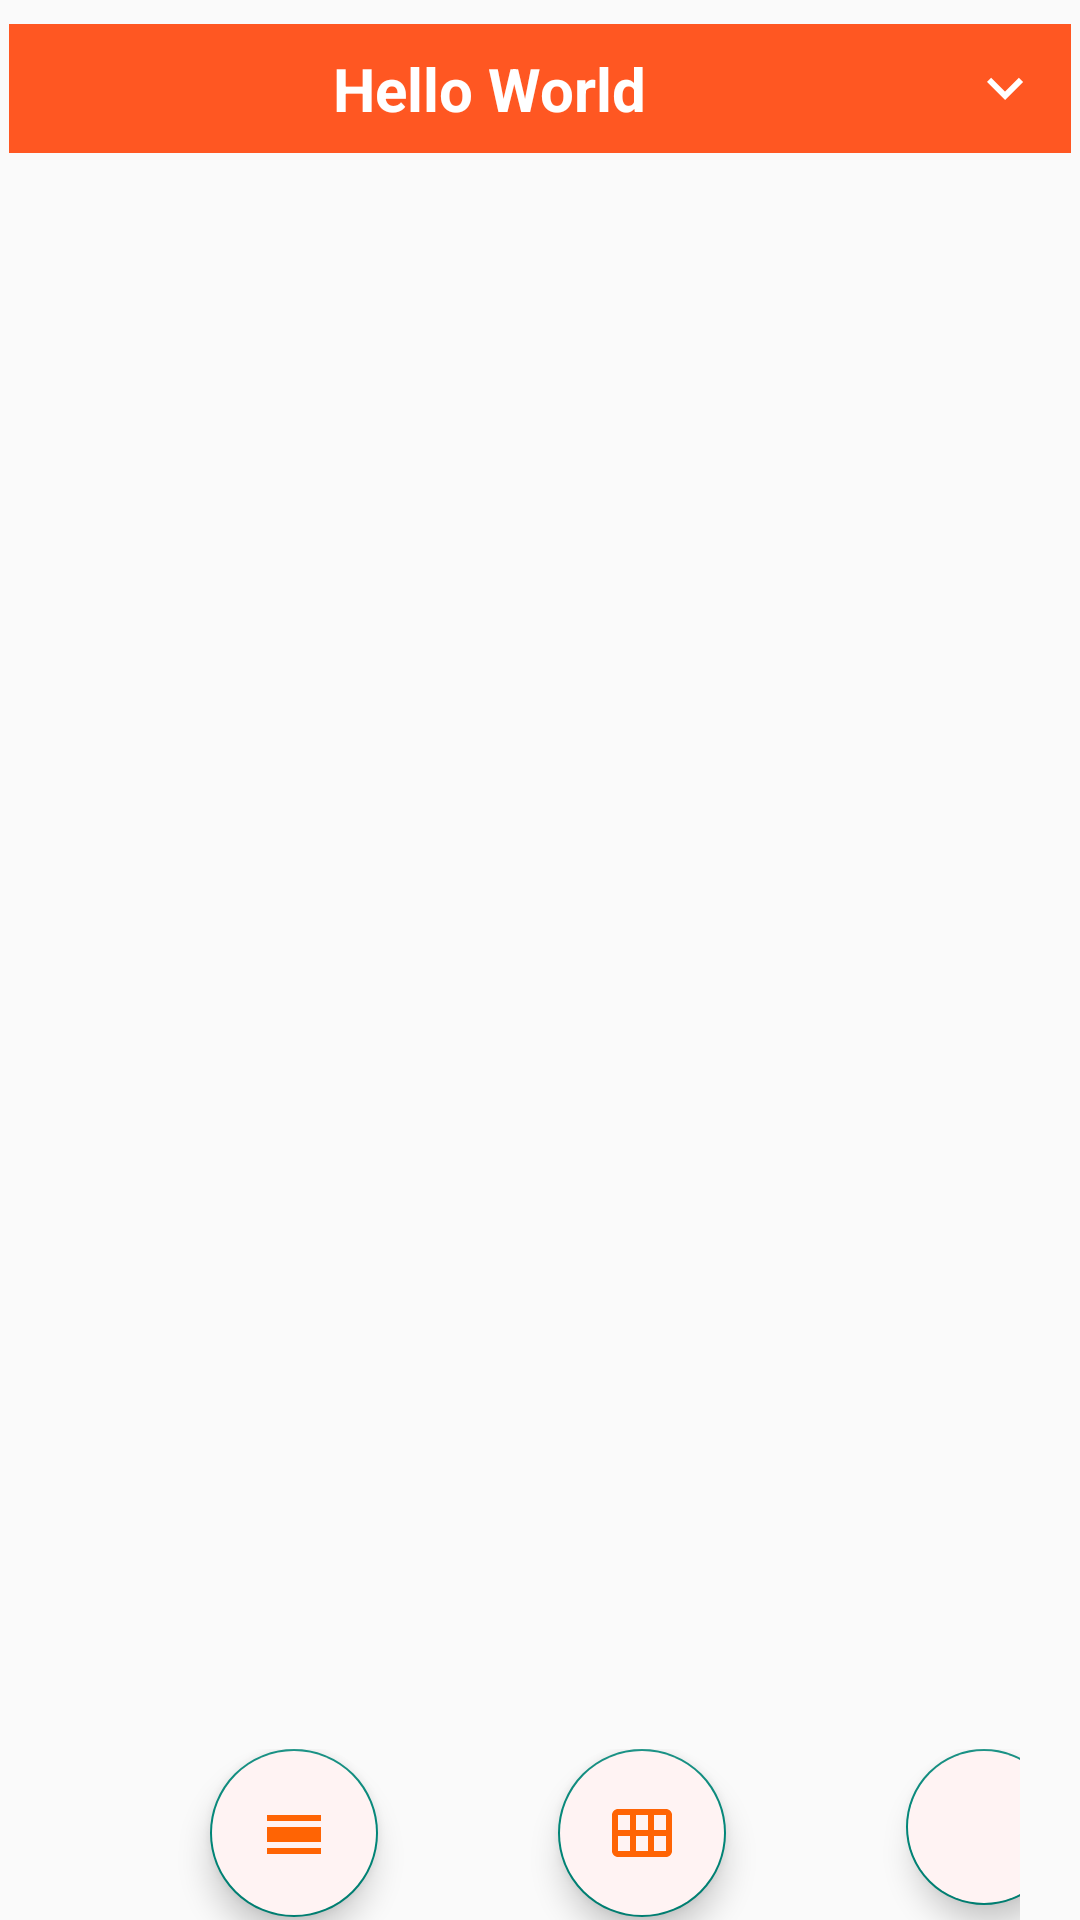

Where to tap for icons on this 1080 × 1920 app screen, as [x,y]:
monthcalendar: [642,1833]
